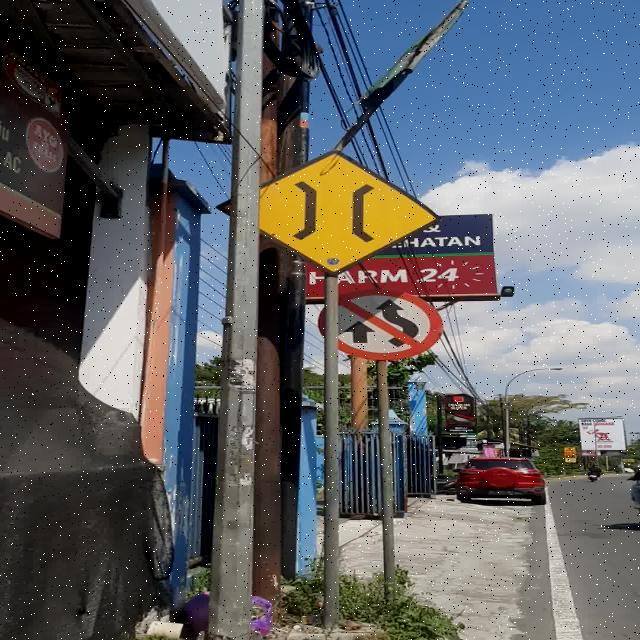Dilarang Mendahului: (340, 288, 443, 361)
